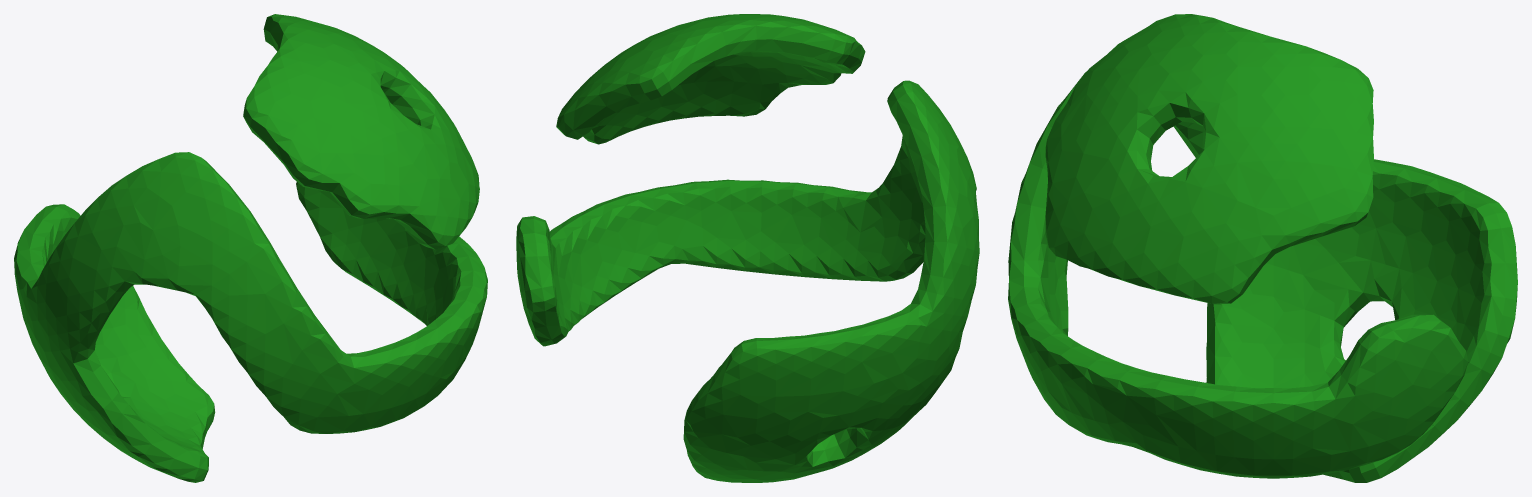
File: Hollow01.FBX
The picture shows the model from 3 angles, left to right: view 1: azimuth 30°, elevation 25°; view 2: azimuth 150°, elevation 25°; view 3: azimuth 270°, elevation 25°; orthographic projection. The views are drawn at different scales.
Visible parts, largest first — view 1: GeoSphere009; view 2: GeoSphere009; view 3: GeoSphere009.
Boxes of the visible parts, x1,y1,x2,y2 form: GeoSphere009: [14, 14, 487, 482]; GeoSphere009: [516, 14, 979, 482]; GeoSphere009: [1008, 14, 1517, 482].
Size of the model in its own units: 57.06 by 56.06 by 54.46.
